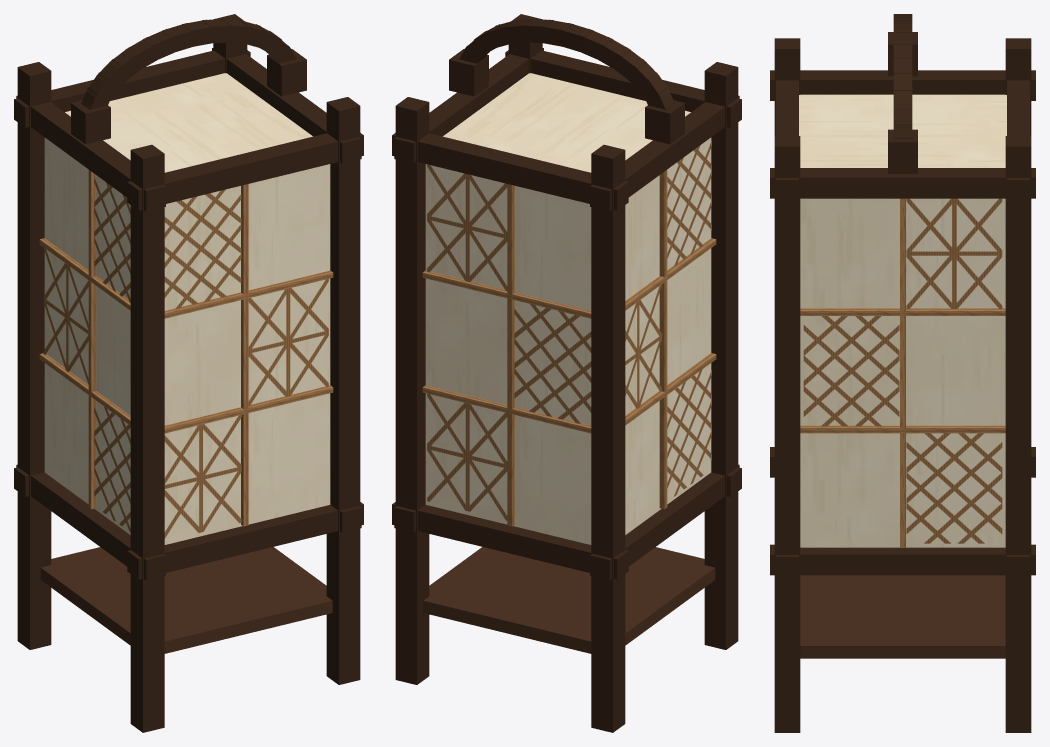
Rendered from andon.glb.
The picture shows the model from 3 angles, left to right: view 1: azimuth 30°, elevation 25°; view 2: azimuth 150°, elevation 25°; view 3: azimuth 270°, elevation 25°; orthographic projection. The views are drawn at different scales.
Visible parts, largest first — view 1: AndonPaper_back, AndonPaper_left, AndonPost-11, AndonPost11, AndonShelf, AndonPost-1-1, AndonPaper_top, AndonRailX1520, AndonRailX1160, AndonRailZ-1520, AndonRailZ-1160, AndonRailX-1520 (+19 smaller); view 2: AndonPaper_front, AndonPaper_left, AndonPost-1-1, AndonPost1-1, AndonShelf, AndonPost-11, AndonPaper_top, AndonRailX-1520, AndonRailX-1160, AndonRailZ-1520, AndonRailZ-1160, AndonRailX1520 (+20 smaller); view 3: AndonPaper_right, AndonShelf, AndonPost1-1, AndonPost11, AndonPaper_top, AndonRailZ1520, AndonRailZ1160, AndonRailZ-1520, AndonKumiko_right00, AndonKumiko_right11, AndonKumiko_right02, AndonBarV_right (+10 smaller).
Part boxes in pixels (x1,y1,x2,y2): AndonPaper_back: (164,164,330,544); AndonPaper_left: (44,137,130,534); AndonPost-11: (130,144,164,732); AndonPost11: (326,97,360,684); AndonShelf: (40,547,332,653); AndonPost-1-1: (17,62,51,649); AndonPaper_top: (65,73,312,172); AndonRailX1520: (127,133,363,210); AndonRailX1160: (127,502,363,579); AndonRailZ-1520: (16,95,165,211); AndonRailZ-1160: (16,464,165,580); AndonRailX-1520: (14,50,250,127); AndonPaper_front: (425,164,591,544); AndonPaper_left: (625,137,711,534); AndonPost-1-1: (591,144,625,732); AndonPost1-1: (395,97,429,684); AndonShelf: (423,547,715,653); AndonPost-11: (704,62,738,649); AndonPaper_top: (443,73,690,172); AndonRailX-1520: (392,133,628,210); AndonRailX-1160: (392,502,628,579); AndonRailZ-1520: (590,95,739,211); AndonRailZ-1160: (590,464,739,580); AndonRailX1520: (505,50,741,127); AndonPaper_right: (800,198,1005,547); AndonShelf: (800,575,1005,658); AndonPost1-1: (1005,136,1031,732); AndonPost11: (774,136,800,732); AndonPaper_top: (799,94,1006,167); AndonRailZ1520: (770,168,1035,198); AndonRailZ1160: (770,544,1035,575); AndonRailZ-1520: (770,70,1035,100); AndonKumiko_right00: (906,433,1002,543); AndonKumiko_right11: (803,316,899,426); AndonKumiko_right02: (906,198,1002,308); AndonBarV_right: (900,198,905,547).
Size of the model in its own units: 0.23 by 0.6182 by 0.23.
5 materials, 3 textured.
